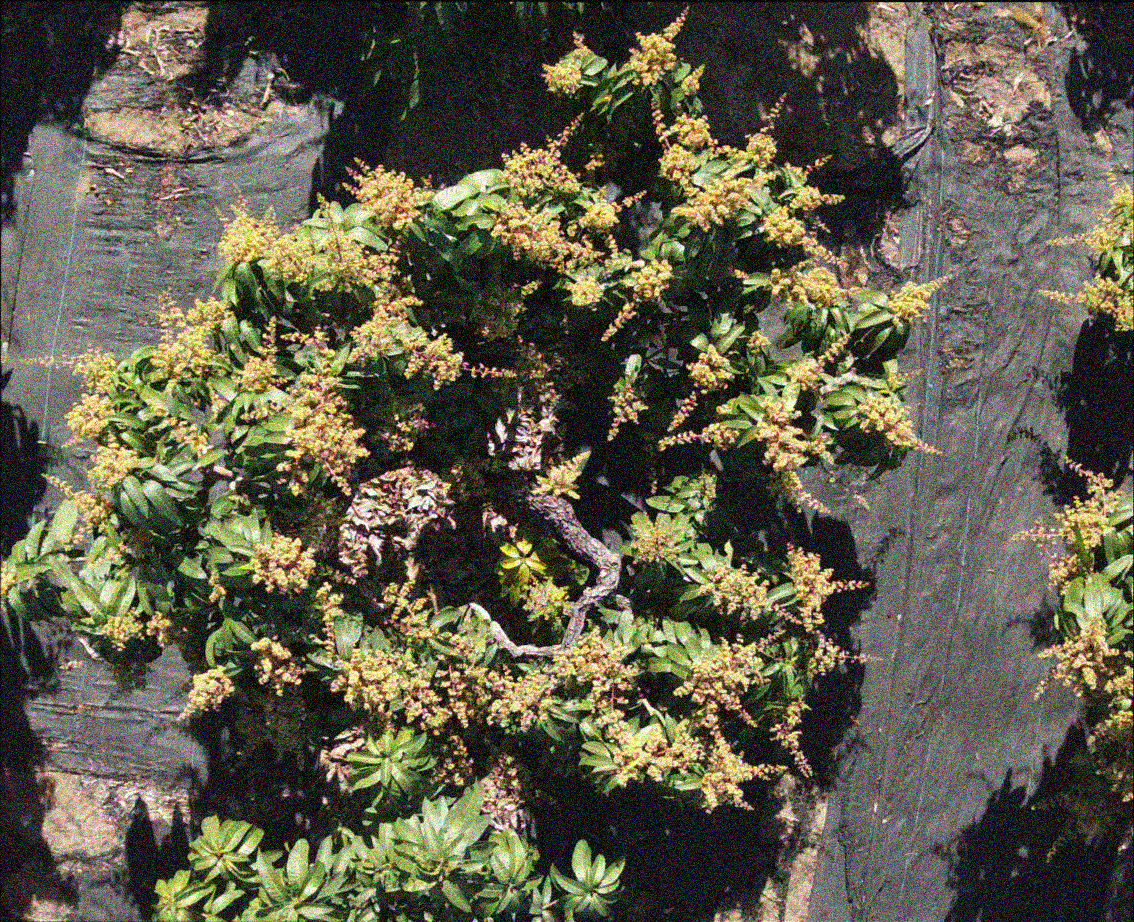flowers: (264, 207, 463, 390), (334, 632, 644, 743), (613, 703, 785, 811), (659, 96, 783, 231), (1011, 457, 1122, 591), (698, 544, 866, 632), (275, 366, 370, 495), (1037, 620, 1133, 743), (382, 582, 489, 663), (756, 398, 830, 513), (491, 202, 604, 273), (673, 640, 766, 726), (151, 292, 230, 385), (1048, 174, 1133, 255), (342, 159, 434, 232), (502, 116, 582, 199), (600, 259, 672, 341), (235, 684, 306, 763), (1042, 275, 1133, 331), (857, 393, 940, 454), (64, 349, 116, 441), (628, 8, 687, 86), (249, 531, 316, 596), (763, 207, 838, 264), (218, 195, 280, 263), (480, 753, 534, 828), (44, 473, 111, 531), (768, 264, 858, 307), (1092, 709, 1133, 802), (239, 316, 288, 393), (462, 338, 550, 380), (787, 333, 849, 391), (768, 698, 813, 777), (101, 609, 187, 649), (250, 636, 305, 695), (150, 403, 209, 458), (577, 189, 645, 236), (469, 284, 525, 340), (177, 666, 235, 720), (744, 94, 786, 168), (807, 634, 881, 674), (888, 276, 950, 323), (542, 31, 587, 95), (624, 511, 678, 564), (536, 450, 590, 499), (381, 402, 429, 453), (86, 442, 138, 489), (431, 733, 475, 788), (657, 422, 739, 451), (607, 381, 647, 440), (686, 344, 734, 391), (522, 578, 572, 623), (312, 582, 343, 648), (785, 185, 844, 219), (632, 259, 672, 301), (118, 527, 154, 561), (667, 391, 697, 431), (569, 276, 603, 309), (603, 235, 633, 272), (692, 470, 717, 500), (681, 63, 704, 95), (208, 568, 227, 603), (745, 329, 771, 351), (0, 562, 17, 595), (583, 152, 604, 170), (520, 279, 541, 296)
